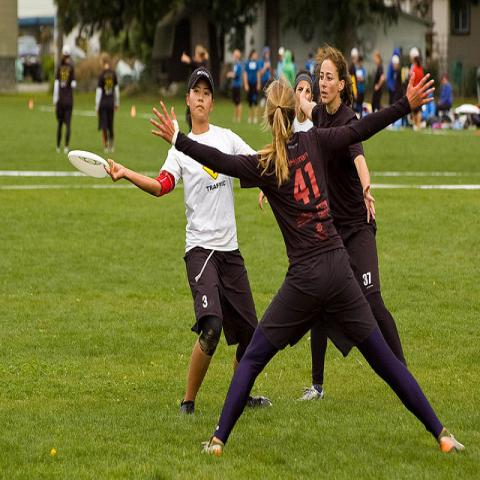car: (16, 36, 44, 82)
